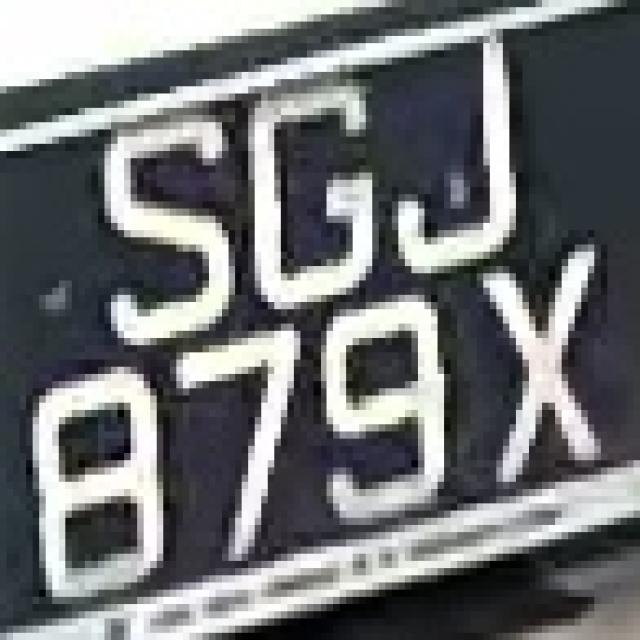7: (157, 345, 333, 539)
8: (13, 352, 176, 612)
9: (320, 273, 457, 518)
G: (228, 58, 398, 338)
J: (379, 43, 529, 302)
S: (72, 108, 228, 352)
X: (483, 237, 601, 503)
